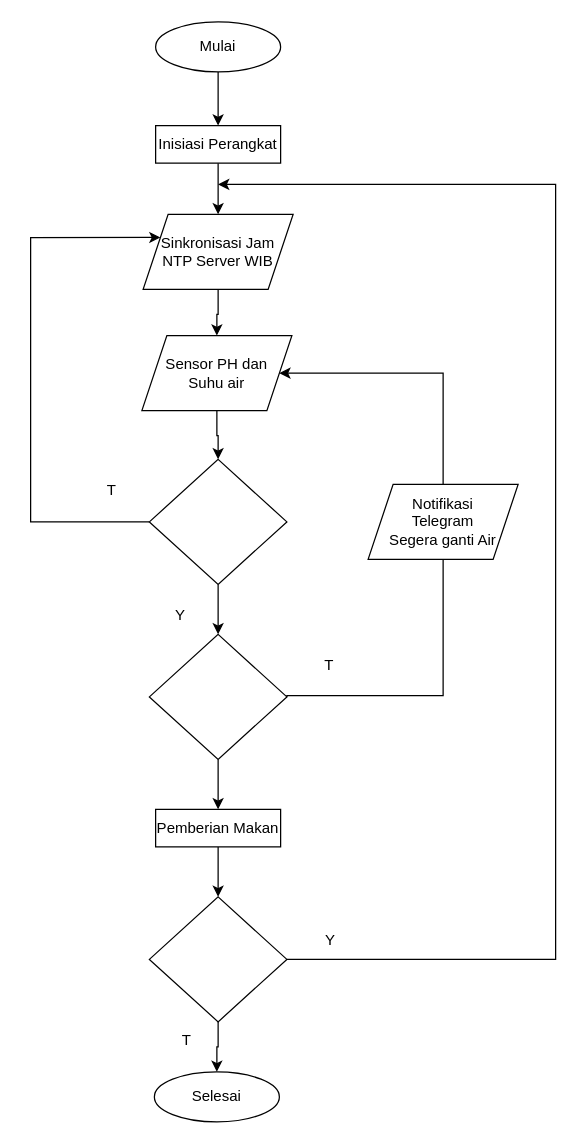
This 588x1144 diagram has some shape labels left out. The shapes that lost their labels are listed below. From the top down, each one's centre as x and y in pixels, then its label:
At point (217, 521): "Jam Sesuai ?".
At point (217, 696): "Jika ph air >6 dan Suhu >27 C".
At point (217, 959): "Masih terkoneksi wifi dan tegangan".
